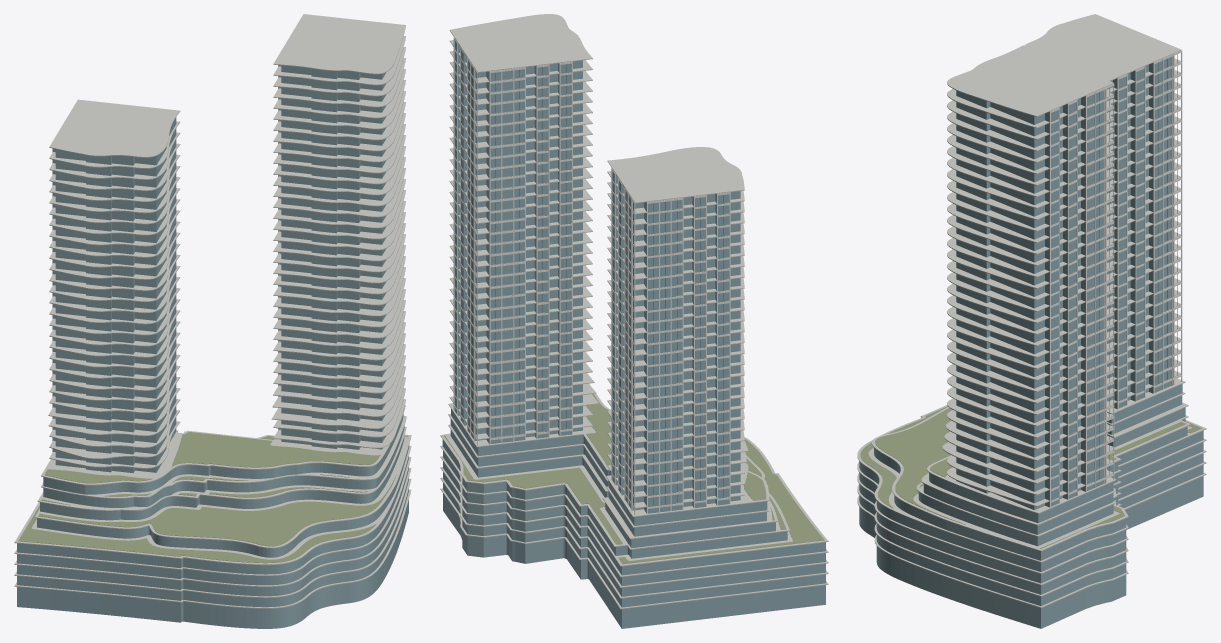
Rendered from voya-cityside-0abaf6709101.glb.
3 renders of one model, left to right at view 1: azimuth 30°, elevation 25°; view 2: azimuth 150°, elevation 25°; view 3: azimuth 270°, elevation 25°, orthographic. The views are drawn at different scales.
Parts seen in each view (by area): view 1: voya-shorter-body, voya-taller-body, voya-podium-level-1-wall-0, voya-podium-level-7-roof-garden-0, voya-taller-band-44, voya-shorter-band-38, voya-podium-level-10-roof-garden-1, voya-podium-level-3-wall-0, voya-podium-level-2-wall-0, voya-podium-level-4-wall-0, voya-podium-level-5-wall-0, voya-podium-level-6-wall-0 (+76 smaller); view 2: voya-taller-body, voya-shorter-body, voya-podium-level-1-wall-0, taller cityside spandrel on preserved walls, voya-taller-band-44, shorter cityside spandrel on preserved walls, voya-shorter-band-38, taller cityside vertical frame linear-X, shorter cityside vertical frame linear-Y, taller cityside vertical frame linear-Y, shorter cityside vertical frame linear-X, voya-podium-level-3-wall-0 (+21 smaller); view 3: voya-taller-body, voya-shorter-body, voya-podium-level-1-wall-0, voya-taller-band-44, taller cityside vertical frame linear-Y, shorter cityside vertical frame linear-Y, voya-shorter-band-38, taller cityside spandrel on preserved walls, voya-podium-level-5-wall-0, voya-podium-level-4-wall-0, voya-podium-level-3-wall-0, voya-podium-level-2-wall-0 (+53 smaller).
Boxes of the visible parts, x1,y1,x2,y2 form: voya-shorter-body: (53, 117, 176, 473); voya-taller-body: (278, 65, 386, 449); voya-podium-level-1-wall-0: (17, 500, 408, 628); voya-podium-level-7-roof-garden-0: (38, 475, 396, 546); voya-taller-band-44: (273, 14, 405, 74); voya-shorter-band-38: (49, 99, 180, 157); voya-podium-level-10-roof-garden-1: (171, 432, 380, 467); voya-podium-level-3-wall-0: (17, 478, 408, 596); voya-podium-level-2-wall-0: (17, 489, 408, 607); voya-podium-level-4-wall-0: (17, 467, 408, 585); voya-podium-level-5-wall-0: (17, 456, 408, 574); voya-podium-level-6-wall-0: (37, 445, 409, 557); voya-taller-body: (454, 41, 582, 443); voya-shorter-body: (612, 171, 740, 513); voya-podium-level-1-wall-0: (443, 493, 825, 628); taller cityside spandrel on preserved walls: (454, 38, 571, 440); voya-taller-band-44: (449, 14, 592, 72); shorter cityside spandrel on preserved walls: (611, 169, 729, 508); voya-shorter-band-38: (607, 147, 744, 203); taller cityside vertical frame linear-X: (489, 61, 572, 444); shorter cityside vertical frame linear-Y: (611, 168, 635, 514); taller cityside vertical frame linear-Y: (453, 37, 477, 445); shorter cityside vertical frame linear-X: (647, 192, 730, 513); voya-podium-level-3-wall-0: (443, 472, 825, 596); voya-taller-body: (956, 90, 1105, 510); voya-shorter-body: (1107, 56, 1173, 409); voya-podium-level-1-wall-0: (859, 476, 1203, 628); voya-taller-band-44: (947, 45, 1113, 116); taller cityside vertical frame linear-Y: (1049, 84, 1114, 507); shorter cityside vertical frame linear-Y: (1117, 50, 1182, 409); voya-shorter-band-38: (1024, 14, 1181, 81); taller cityside spandrel on preserved walls: (1051, 84, 1113, 502); voya-podium-level-5-wall-0: (859, 430, 1203, 571); voya-podium-level-4-wall-0: (859, 442, 1203, 583); voya-podium-level-3-wall-0: (859, 453, 1203, 594); voya-podium-level-2-wall-0: (859, 465, 1203, 605).
Bounding box in the file's own units: 122 × 144 × 89.34.
